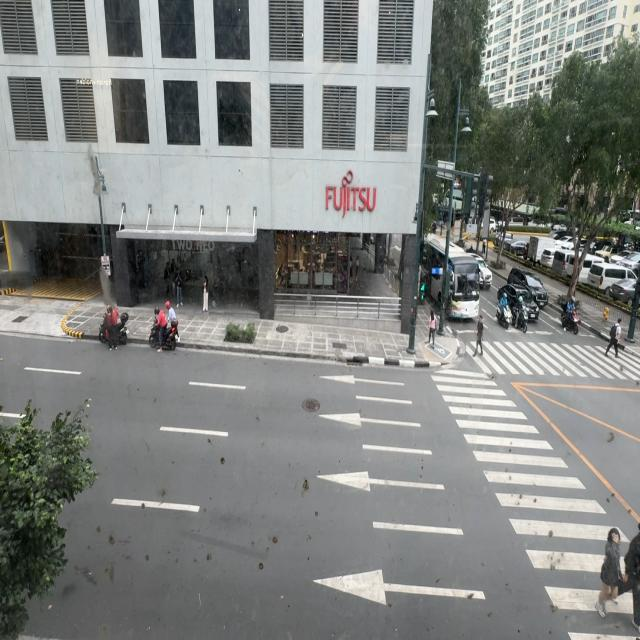crossing: (585, 521, 640, 629), (595, 522, 640, 631), (605, 318, 621, 358), (475, 314, 484, 355)
waiting: (428, 310, 437, 347)
